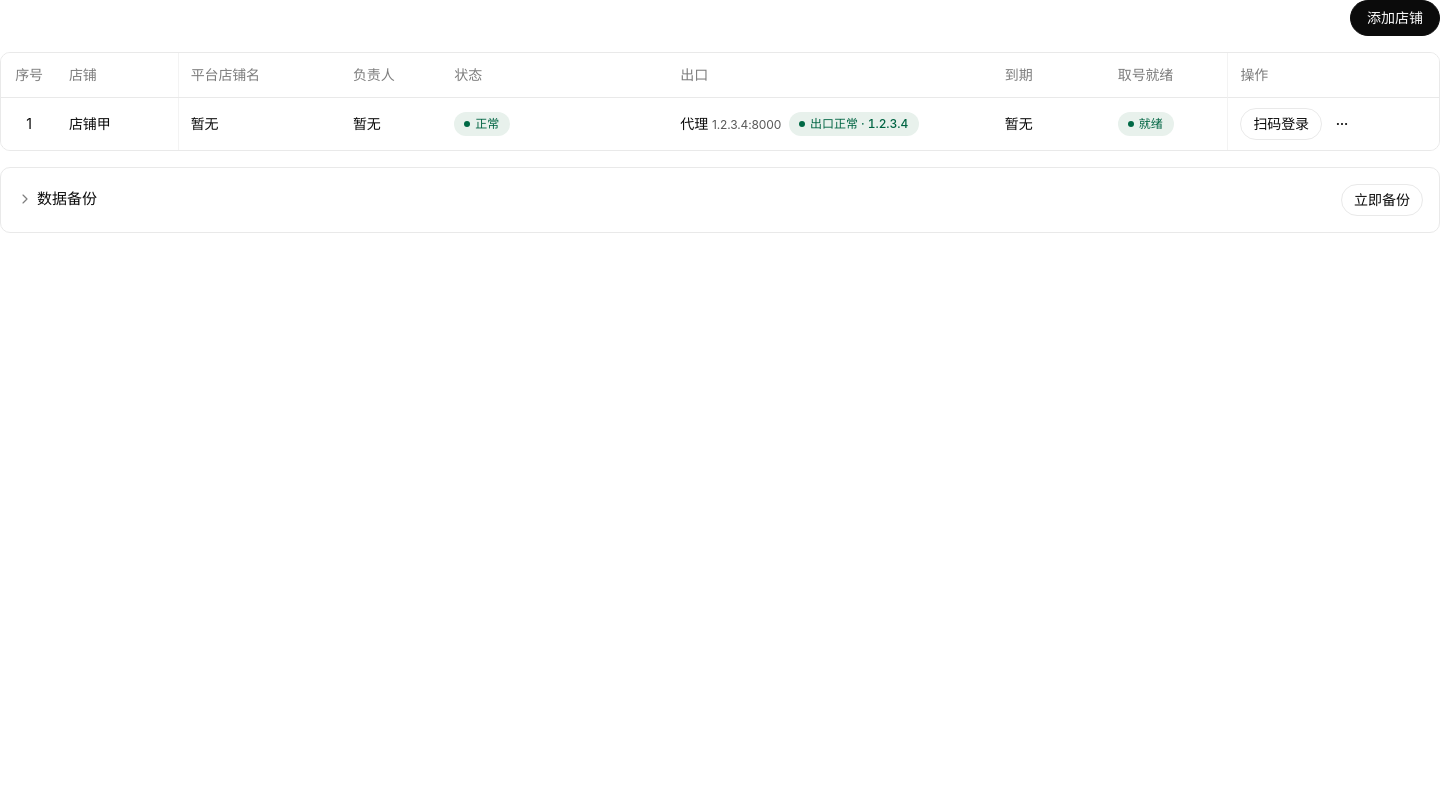
Test case: 飞鸽消息 › 编辑店铺弹窗里没有开关
Click the button named "更多操作".
click(1342, 124)  # box [1326, 108, 1358, 140]
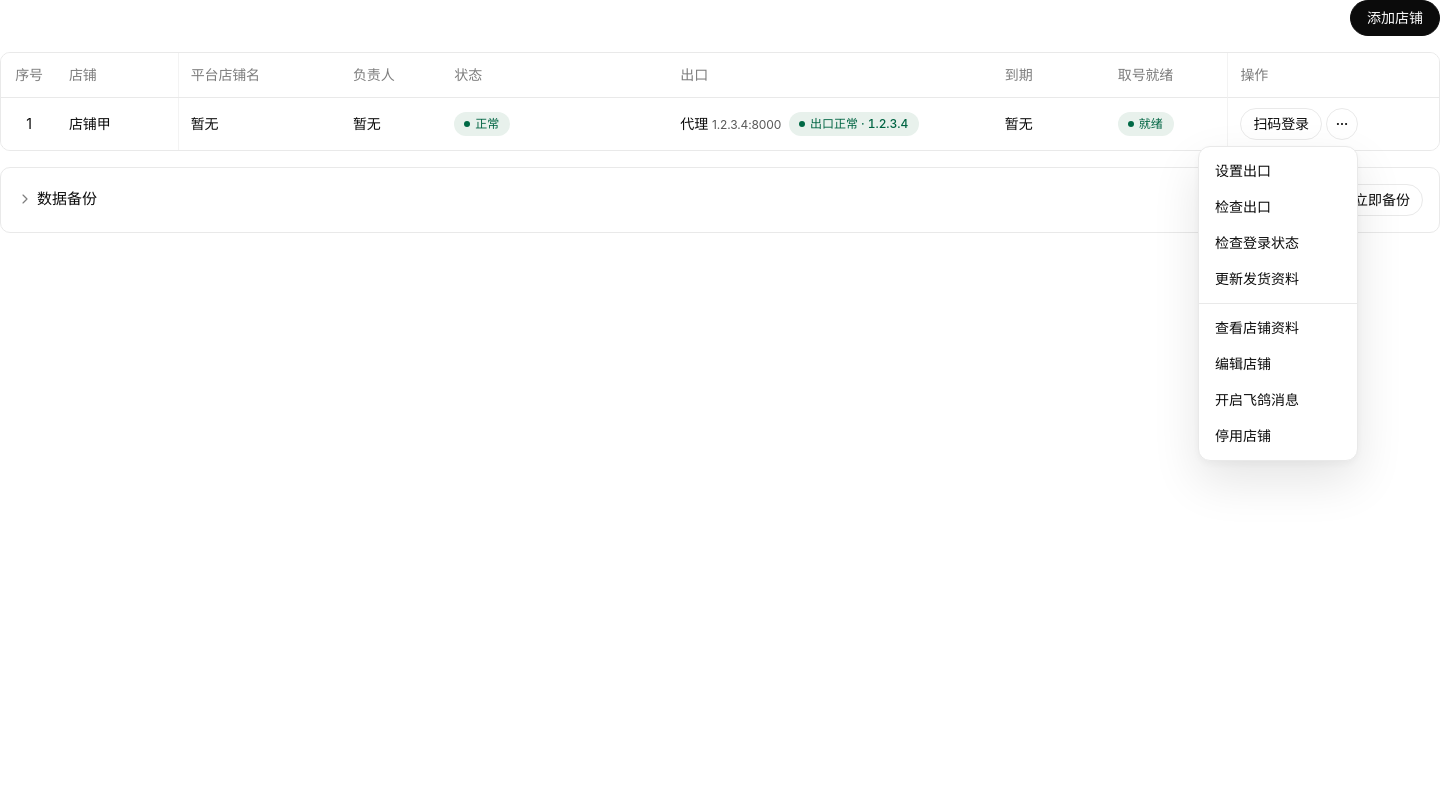
Click the menu item "编辑店铺".
click(1243, 364)  # box [1215, 355, 1271, 372]
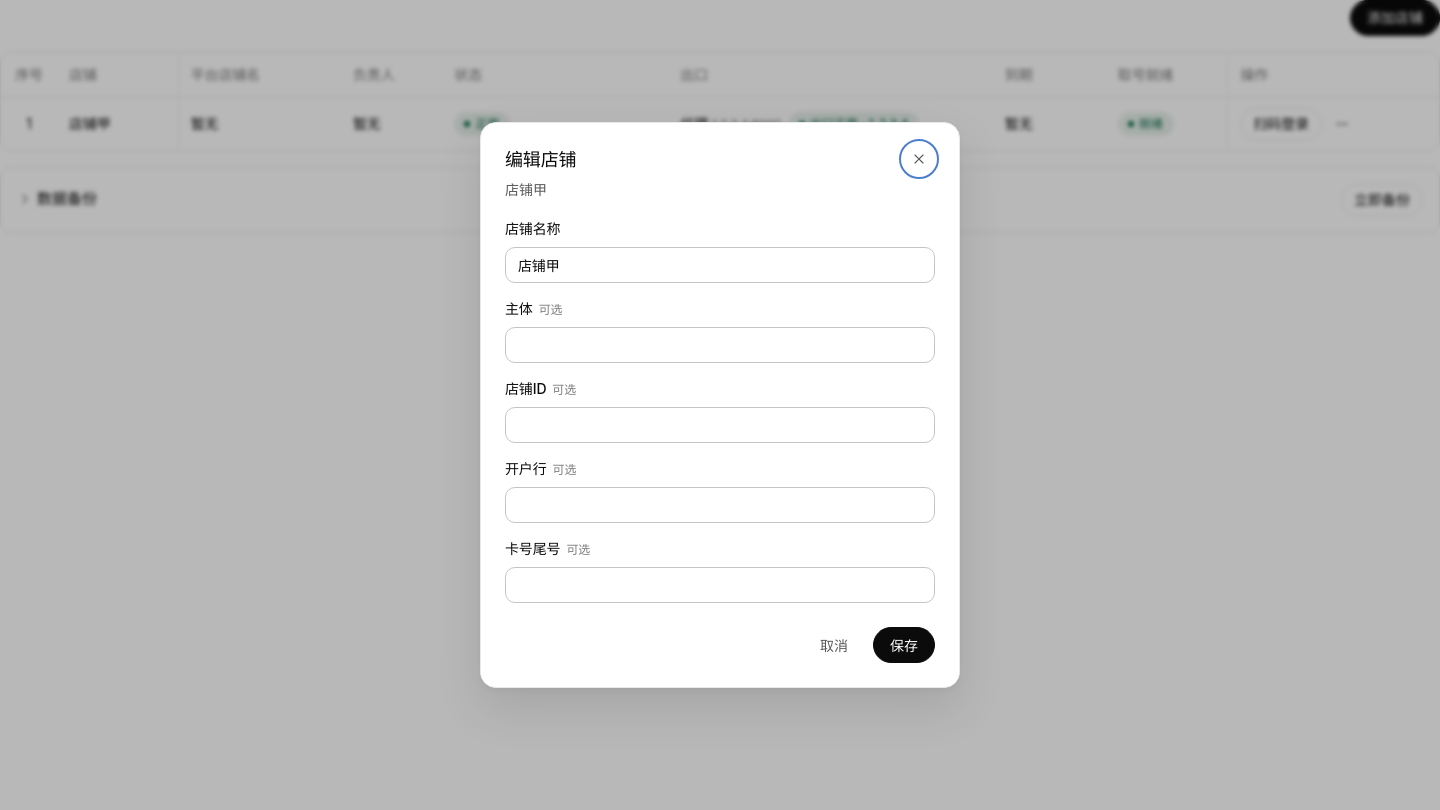
Now the menu item "飞鸽" is gone
